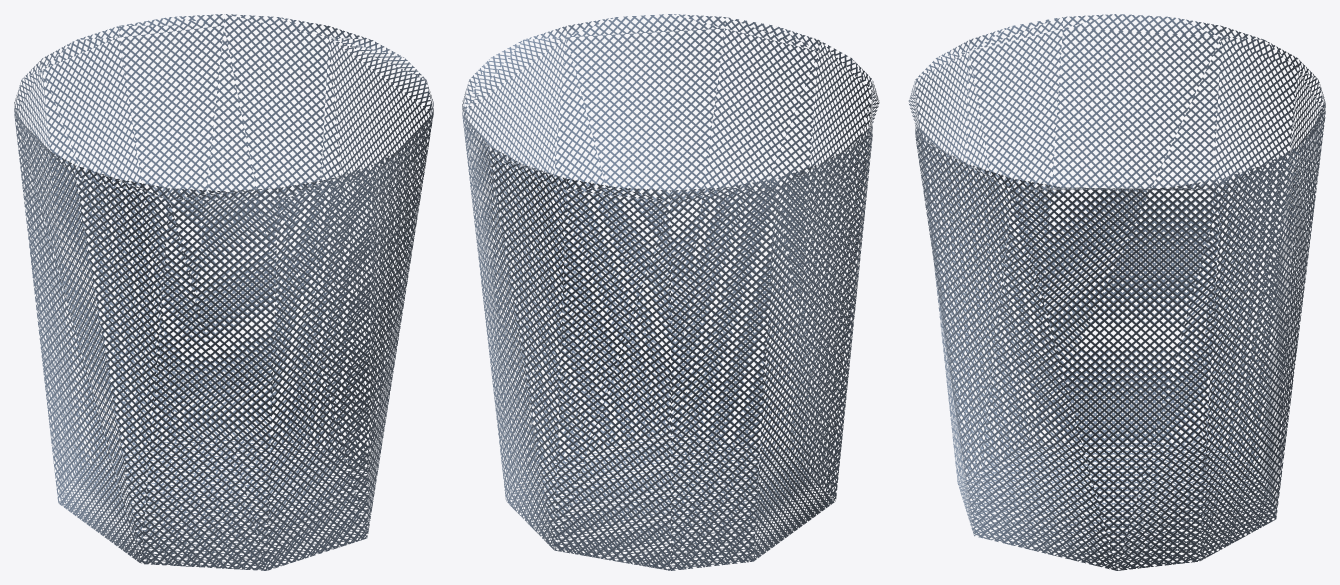
File: Bin.fbx
3 renders of one model, left to right at view 1: azimuth 30°, elevation 25°; view 2: azimuth 150°, elevation 25°; view 3: azimuth 270°, elevation 25°, orthographic.
Parts seen in each view (by area): view 1: Model; view 2: Model; view 3: Model.
Boxes of the visible parts, x1,y1,x2,y2 form: Model: (14, 14, 433, 570); Model: (462, 14, 879, 570); Model: (908, 14, 1325, 570).
Size of the model in its own units: 0.458 by 0.483 by 0.458.
